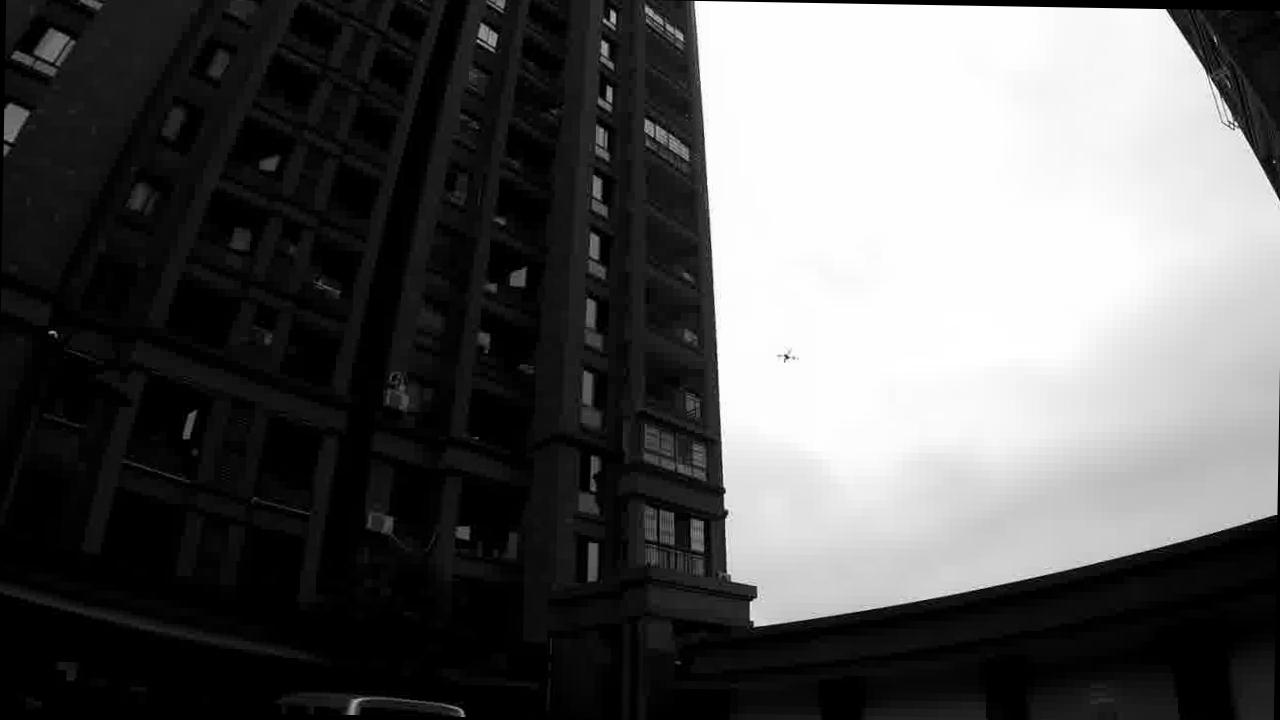drone: (776, 348, 801, 366)
